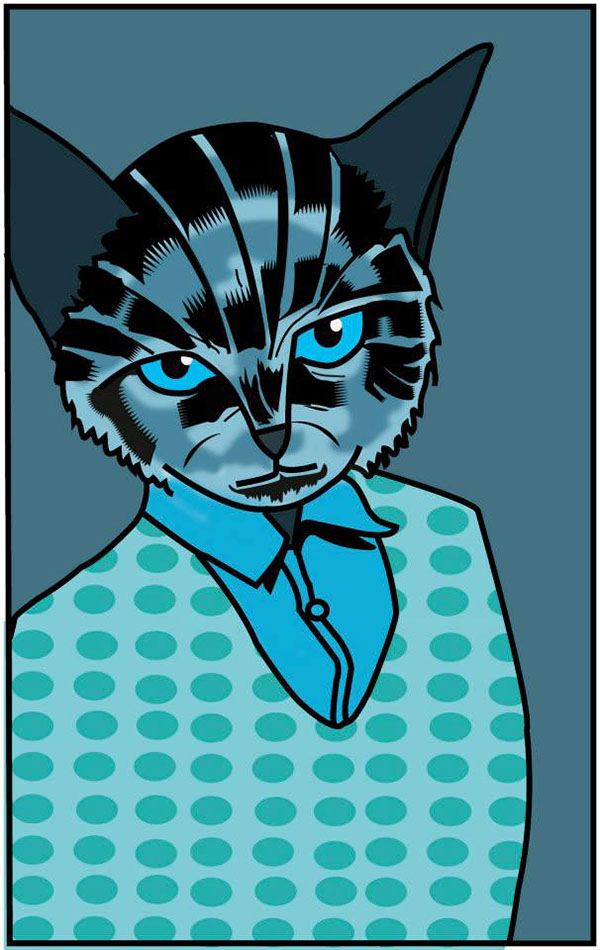cat: (13, 20, 579, 939)
